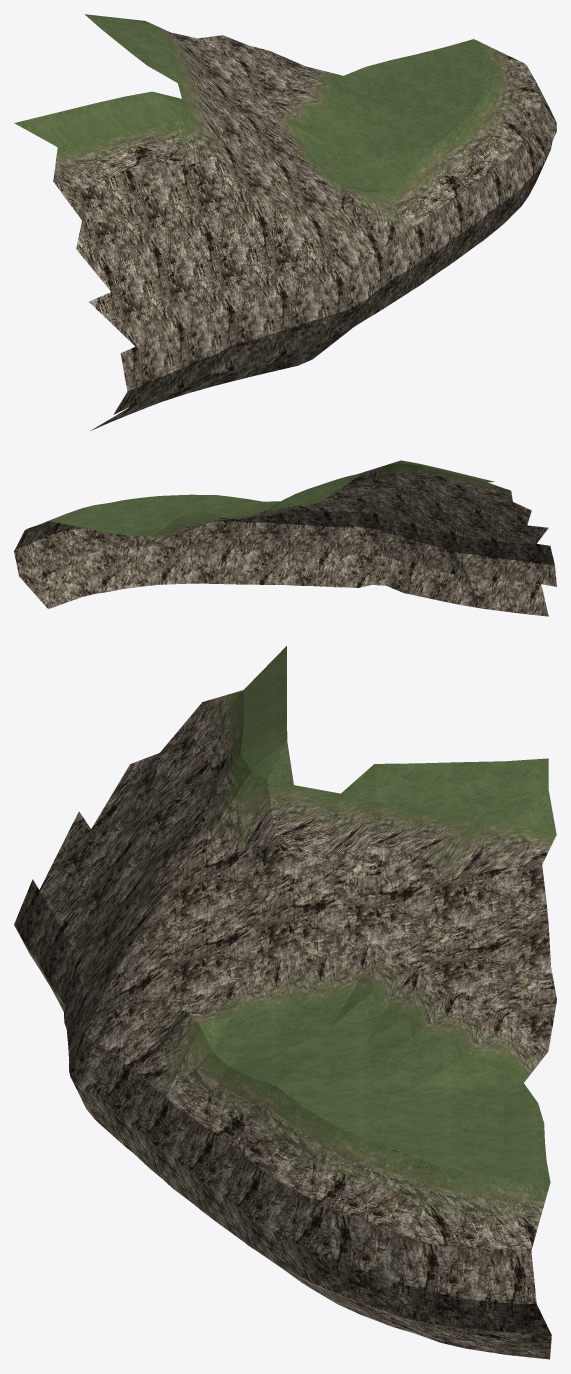
File: a_carisle_mid_landmass_01_00.fbx
The picture shows the model from 3 angles, top to bottom: view 1: azimuth 30°, elevation 25°; view 2: azimuth 150°, elevation 25°; view 3: azimuth 270°, elevation 25°; orthographic projection. The views are drawn at different scales.
Parts seen in each view (by area): view 1: a_carisle_mid_landmass_01_00; view 2: a_carisle_mid_landmass_01_00; view 3: a_carisle_mid_landmass_01_00.
Boxes of the visible parts, x1,y1,x2,y2 form: a_carisle_mid_landmass_01_00: [14, 14, 556, 430]; a_carisle_mid_landmass_01_00: [14, 460, 556, 616]; a_carisle_mid_landmass_01_00: [14, 646, 556, 1359].
Size of the model in its own units: 53.38 by 29.97 by 21.04.
